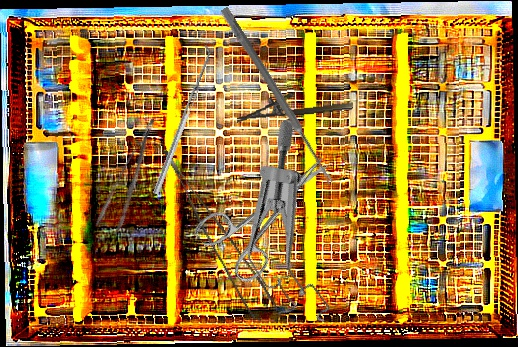Dressing Forceps: (92, 117, 174, 236)
Iris Scissors: (190, 133, 354, 291)
Needle Holder: (234, 86, 354, 123)
Spatula Surgical: (147, 44, 215, 195)
Speculum: (193, 116, 391, 342)
Surgical Spoon: (218, 6, 337, 186)
Tissue Forceps: (163, 136, 278, 324)
